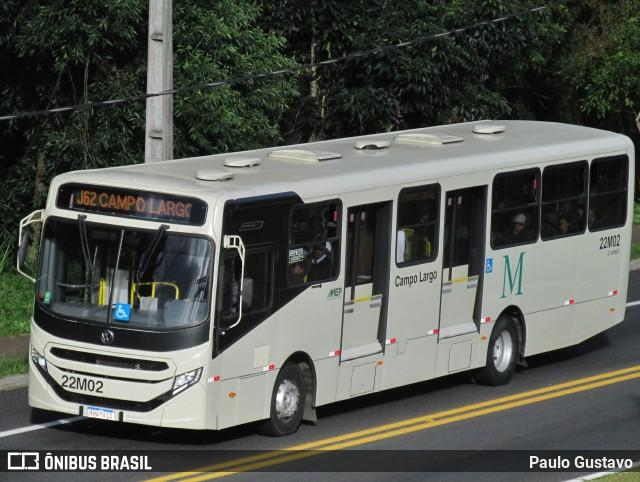CAMPO LARGO: (97, 188, 196, 223)
